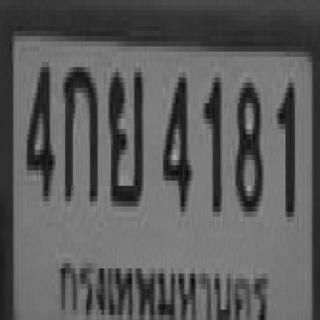A01: (61, 62, 96, 196)
A34: (107, 67, 142, 201)
N01: (201, 75, 220, 209), (276, 77, 293, 212)
N04: (161, 67, 190, 206), (25, 57, 52, 196)
N08: (234, 77, 261, 206)
P04: (57, 252, 271, 320)
